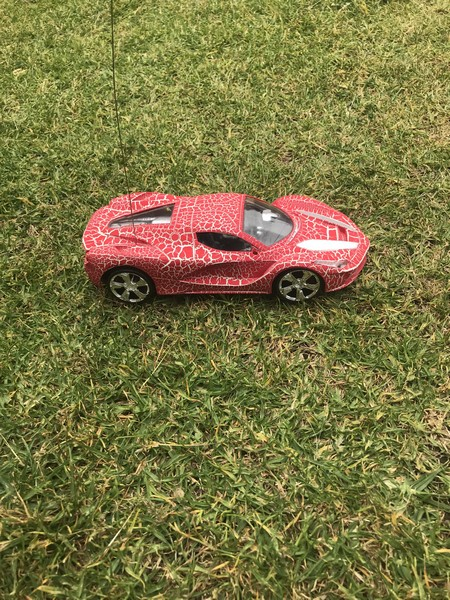RC: (81, 187, 370, 307)
